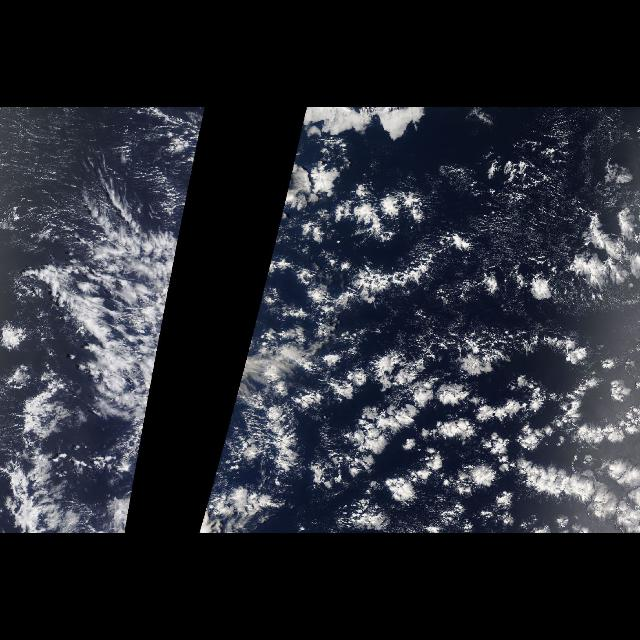Fish: (23, 201, 177, 533)
Flower: (198, 151, 640, 534), (147, 150, 197, 402)
Sugar: (8, 110, 78, 260)
